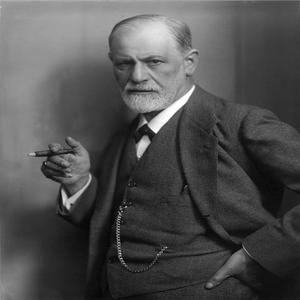cigarette: (27, 147, 71, 159)
